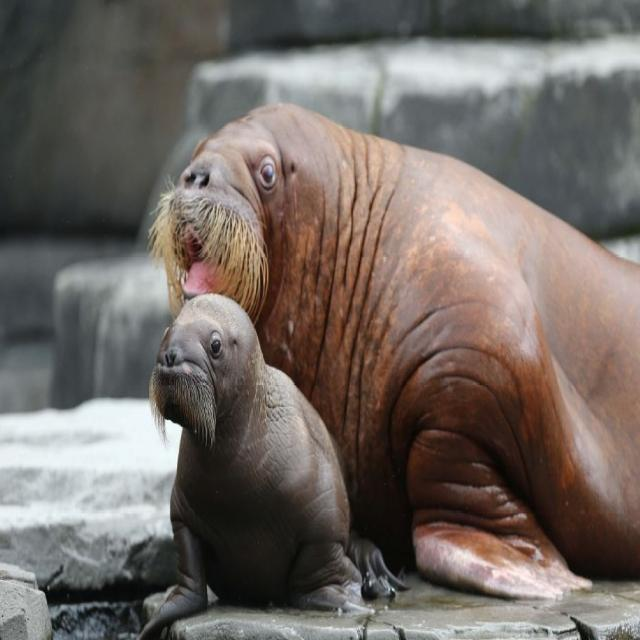walrus: (146, 95, 640, 600), (143, 292, 400, 624)
